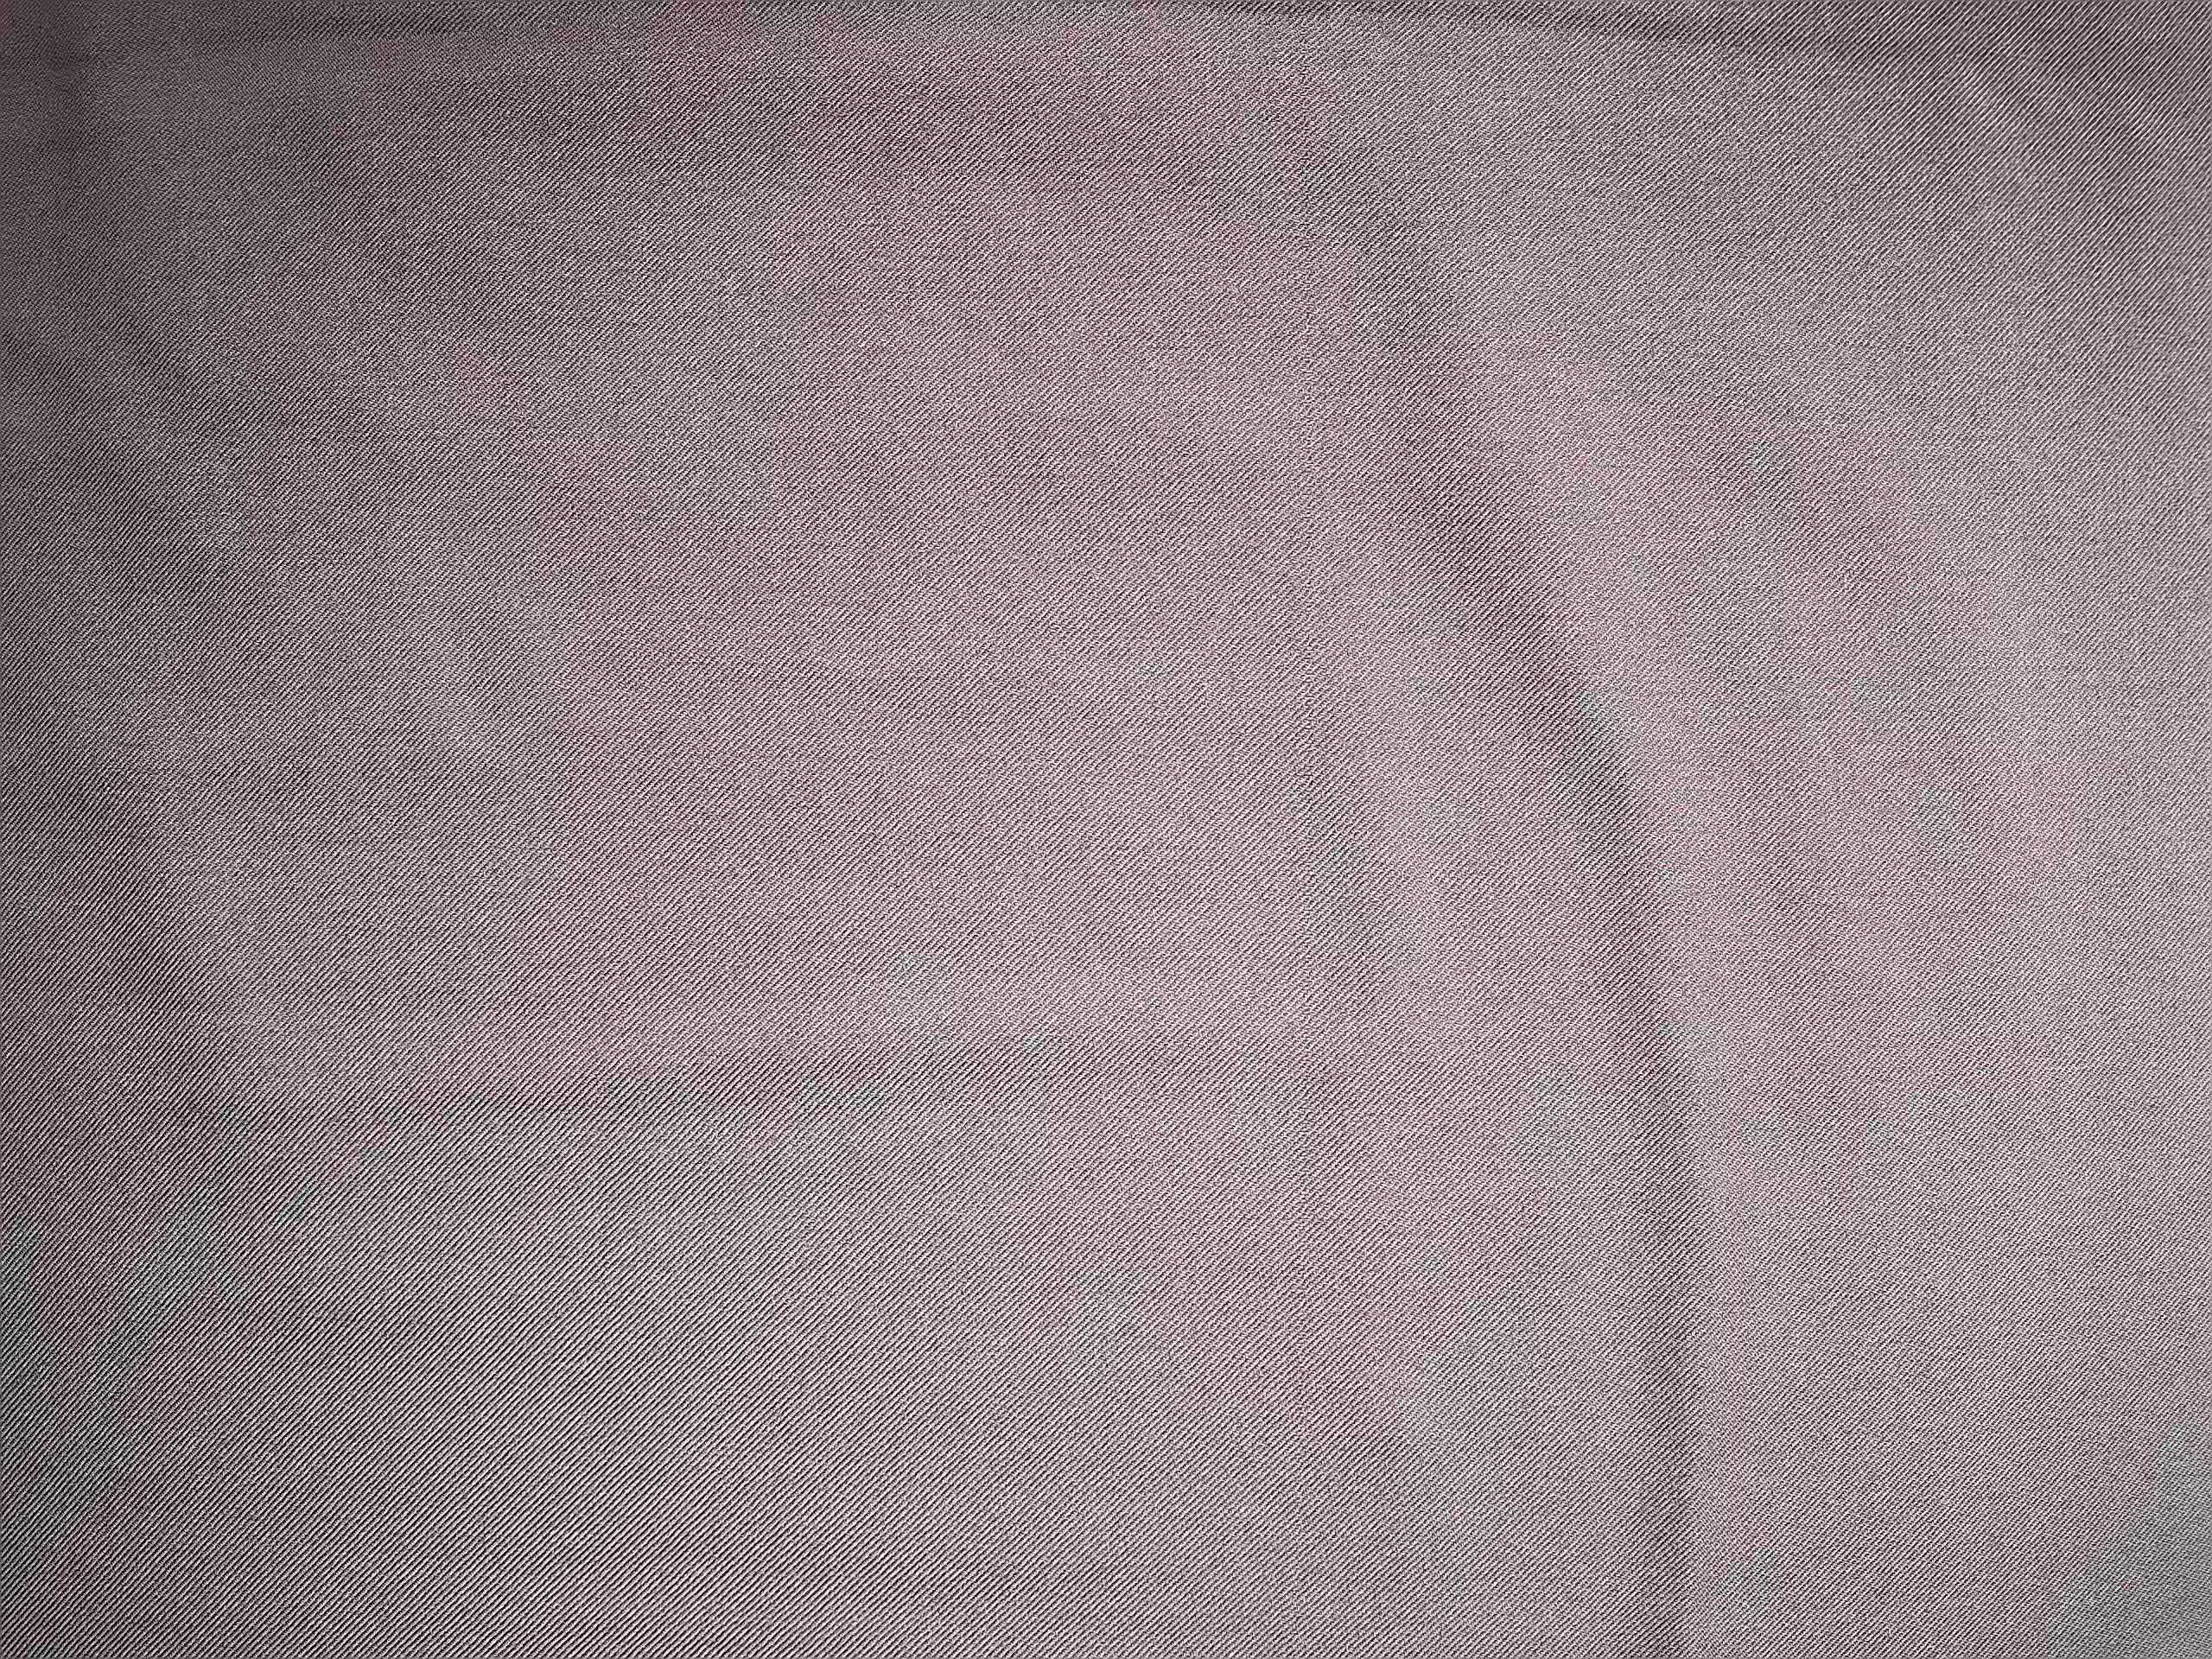lacking-warp: (1278, 301, 1339, 950)
